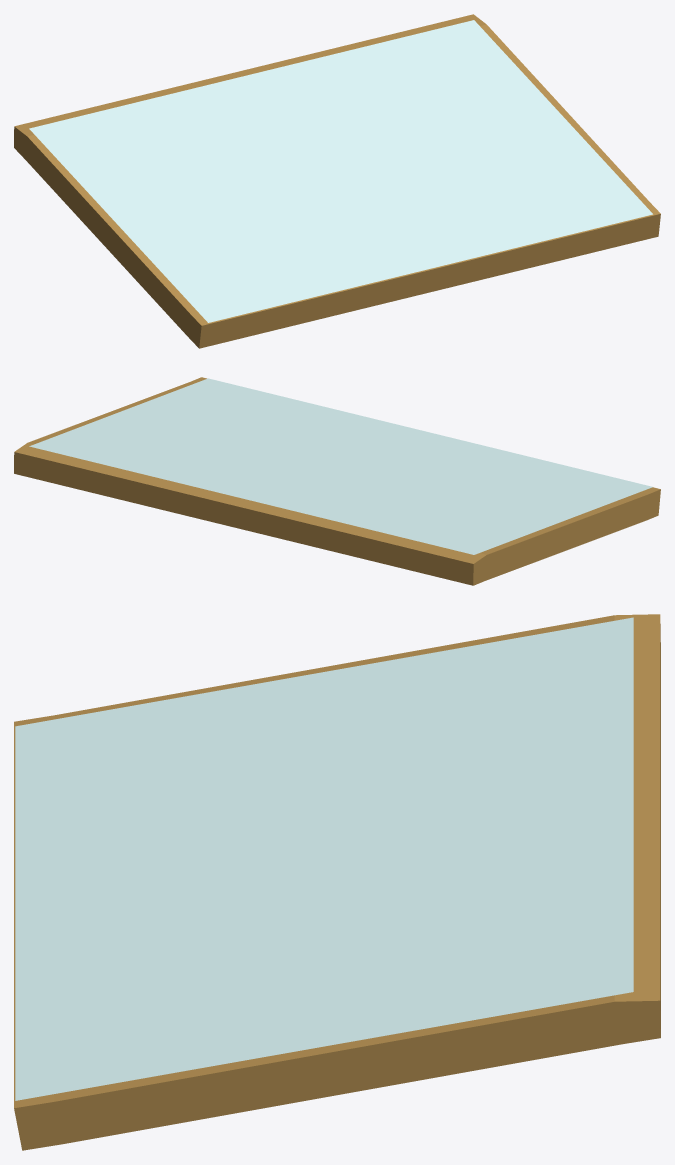
File: stand_roof.glb
3 views of the same model, one above another, from view 1: azimuth 30°, elevation 25°; view 2: azimuth 150°, elevation 25°; view 3: azimuth 270°, elevation 25° (orthographic). The views are drawn at different scales.
Visible parts, largest first — view 1: Roof; view 2: Roof; view 3: Roof.
Part boxes in pixels (<box>): Roof: <box>14,14,660,348</box>; Roof: <box>14,377,660,585</box>; Roof: <box>14,614,660,1150</box>.
Bounding box in the file's own units: 2.01 × 0.3695 × 1.42.
